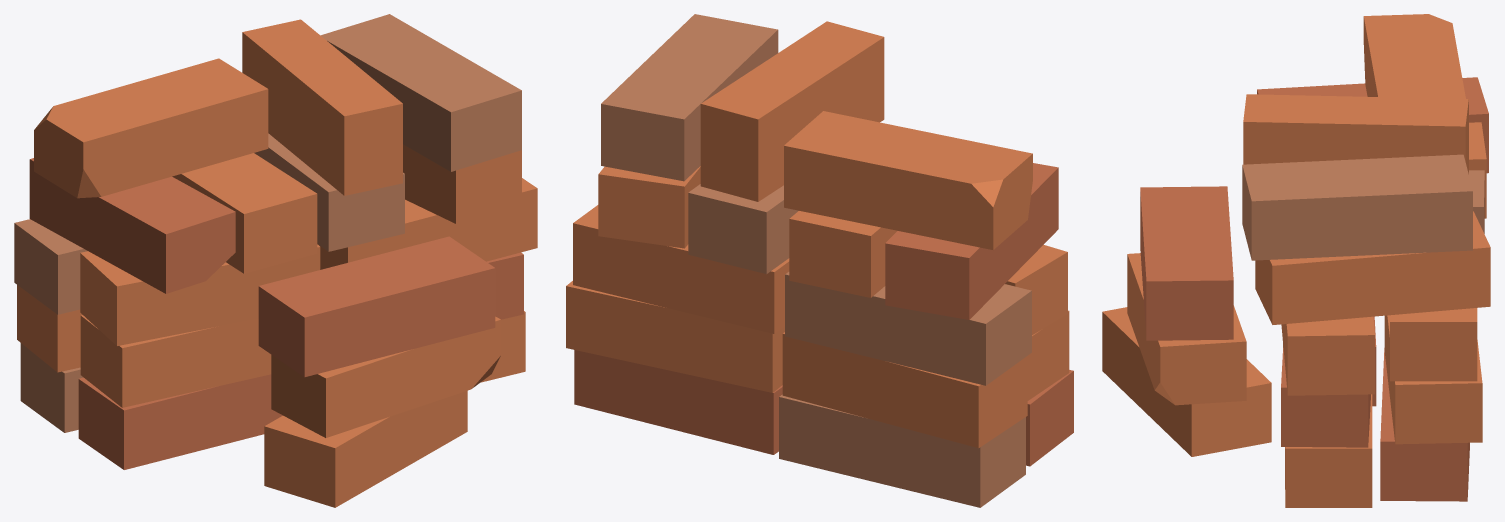
Rendered from Brick_Pile_m_01.fbx.
3 renders of one model, left to right at view 1: azimuth 30°, elevation 25°; view 2: azimuth 150°, elevation 25°; view 3: azimuth 270°, elevation 25°, orthographic. The views are drawn at different scales.
Visible parts, largest first — view 1: Brick_Pile_m_01; view 2: Brick_Pile_m_01; view 3: Brick_Pile_m_01.
Part boxes in pixels (bbox=[...]): Brick_Pile_m_01: bbox=[14, 14, 537, 507]; Brick_Pile_m_01: bbox=[566, 14, 1073, 507]; Brick_Pile_m_01: bbox=[1102, 14, 1490, 507].
Bounding box in the file's own units: 0.5628 × 0.4 × 0.445.
